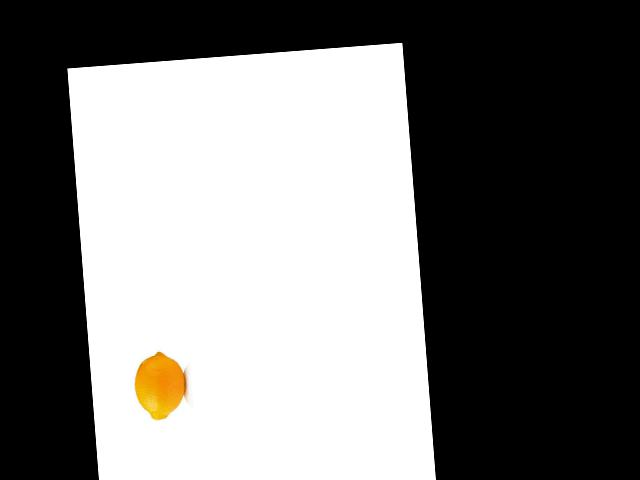lemon: (131, 348, 191, 425)
